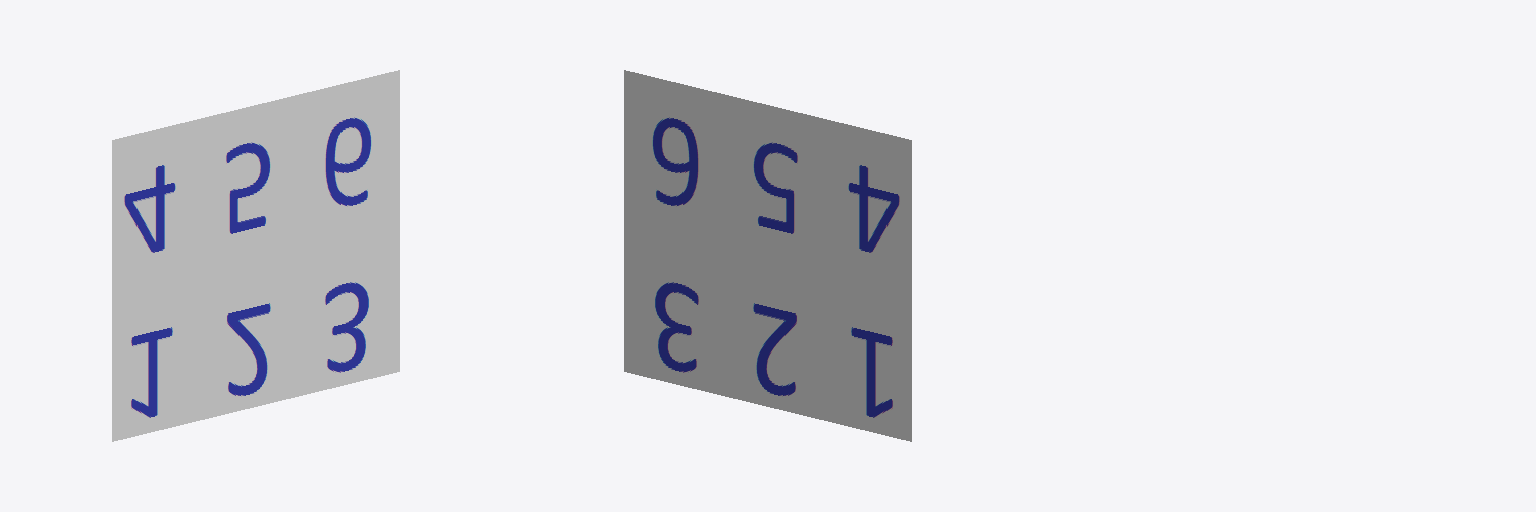
3 views of the same model, side by side, from view 1: azimuth 30°, elevation 25°; view 2: azimuth 150°, elevation 25°; view 3: azimuth 270°, elevation 25° (orthographic).
Bounding box in the file's own units: 2 × 2 × 0.
Materials: 1 (1 with a texture image).